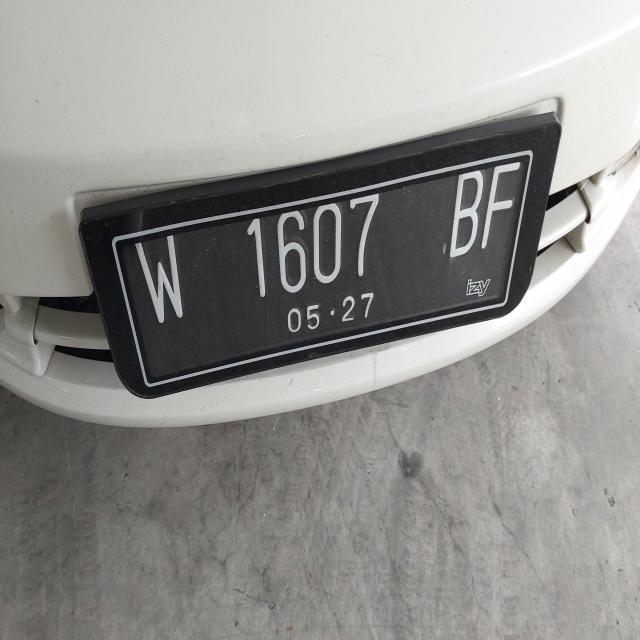1: (228, 207, 278, 326)
6: (270, 200, 310, 290)
7: (343, 182, 388, 280)
B: (439, 158, 487, 274)
F: (478, 154, 520, 266)
W: (132, 225, 192, 328), (311, 203, 345, 285)
